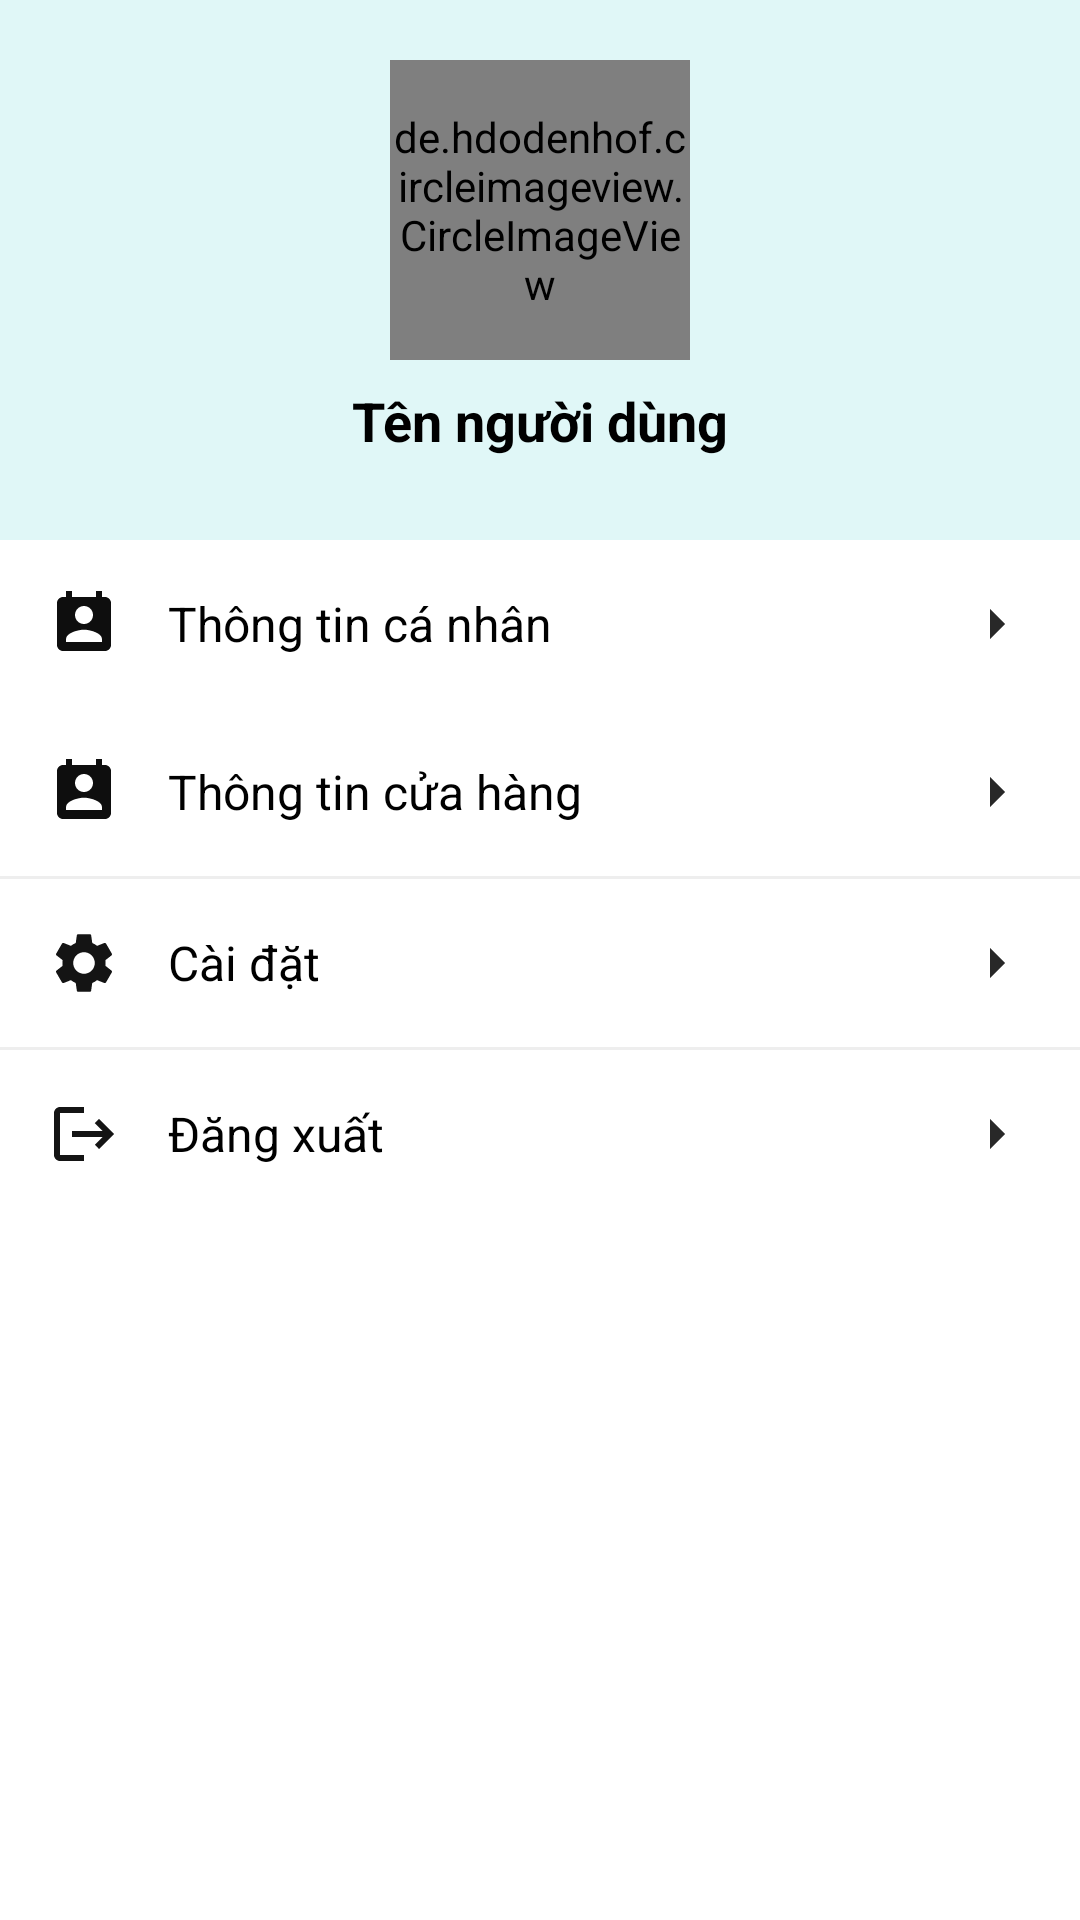

Icons on this 1080w x 1920h Android screen, each with its box as bbox=[x1, y1, x2, y2]:
Arrow: bbox=[990, 609, 1005, 639], bbox=[990, 777, 1005, 807], bbox=[990, 948, 1005, 978], bbox=[990, 1119, 1005, 1149]
perm contact calendar: bbox=[57, 591, 111, 651], bbox=[57, 759, 111, 819]
Settings Icon: bbox=[56, 934, 112, 992]
